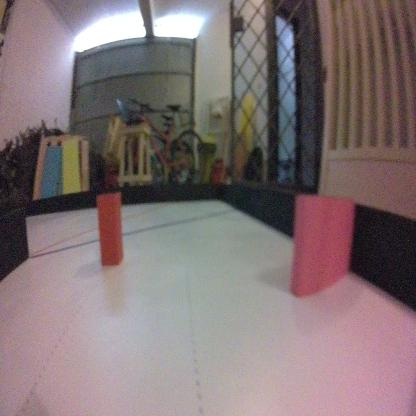magenta: (289, 192, 359, 304)
red: (96, 188, 125, 266)
